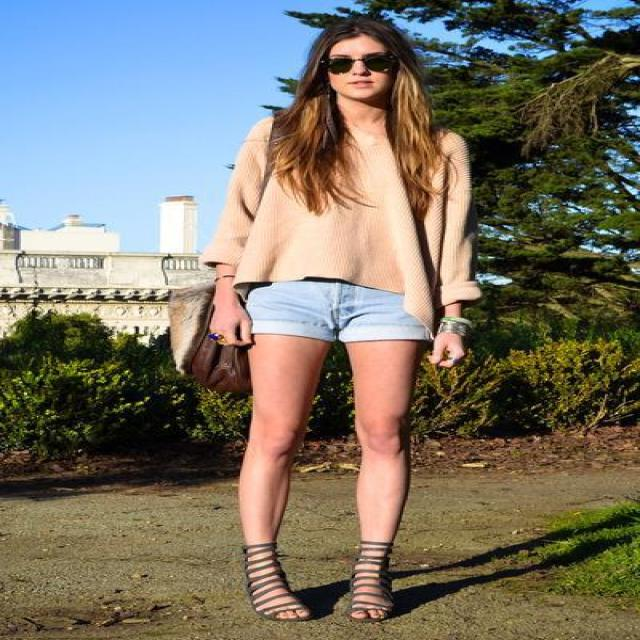bag: (156, 287, 254, 396)
jacket: (198, 116, 517, 319)
shoe: (235, 540, 440, 609)
shorts: (250, 280, 430, 342)
sunglass: (360, 51, 405, 81)
